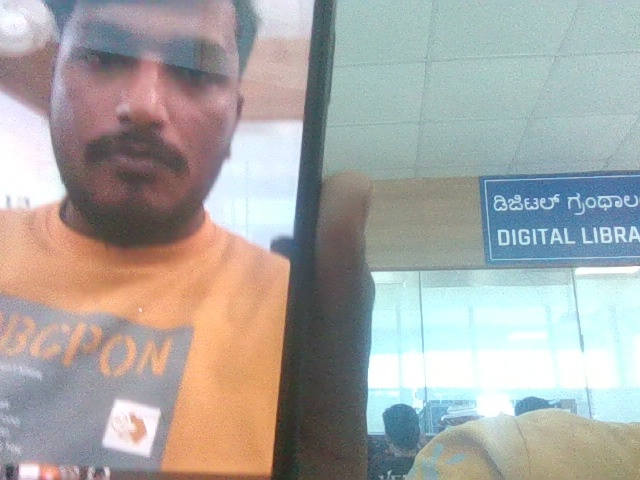fake: (8, 0, 278, 382)
